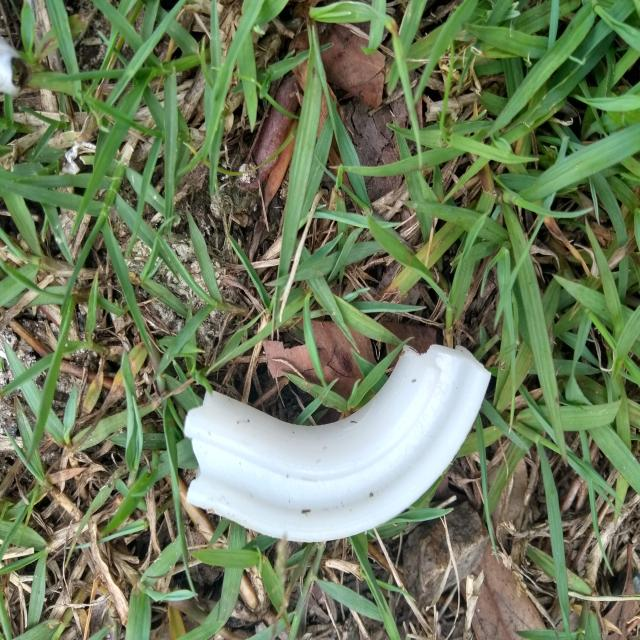litter: (184, 344, 491, 543)
